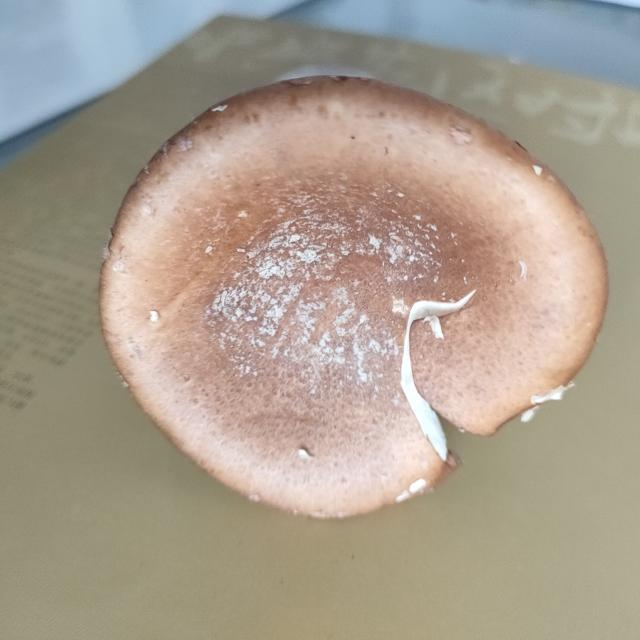Clitocybe maxima: (102, 76, 612, 526)
